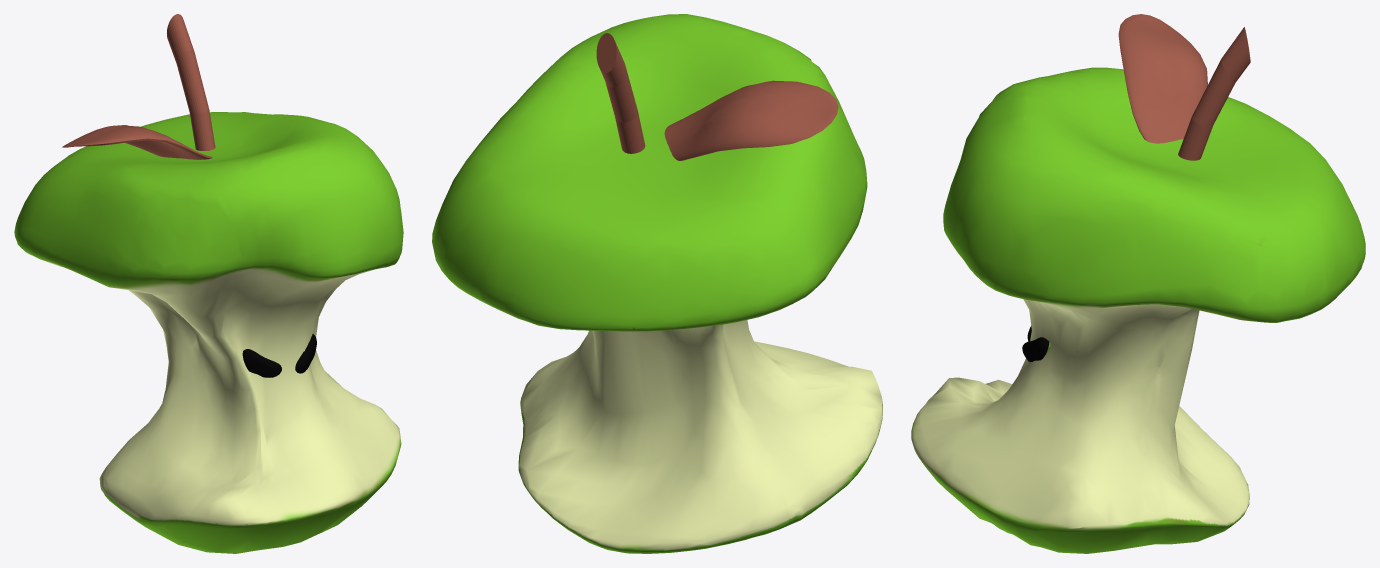
Rendered from EatenApple.fbx.
3 renders of one model, left to right at view 1: azimuth 30°, elevation 25°; view 2: azimuth 150°, elevation 25°; view 3: azimuth 270°, elevation 25°, orthographic. The views are drawn at different scales.
Parts seen in each view (by area): view 1: Plane.004; view 2: Plane.004; view 3: Plane.004.
Part boxes in pixels (x1=…): Plane.004: x1=14, y1=14, x2=403, y2=553; Plane.004: x1=432, y1=14, x2=882, y2=553; Plane.004: x1=911, y1=14, x2=1365, y2=553.
Bounding box in the file's own units: 205 × 288 × 239.
Materials: 4 (2 with a texture image).
